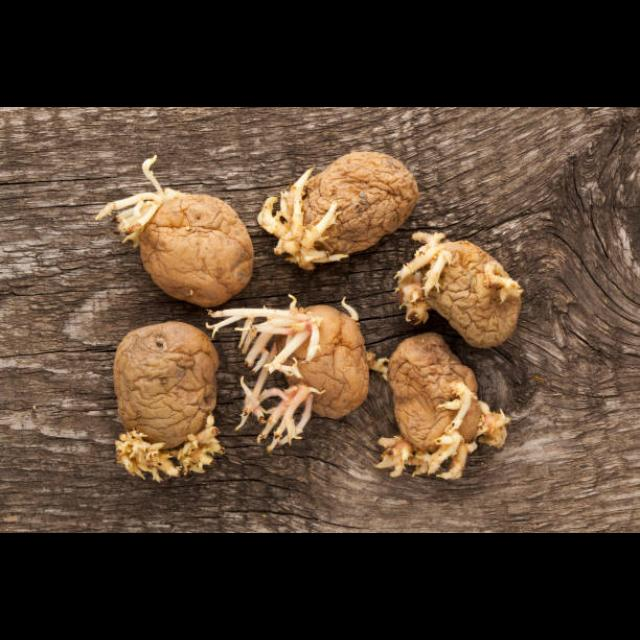Sprouted potato: (214, 278, 366, 446), (100, 154, 254, 308), (93, 307, 233, 475), (366, 316, 504, 486), (256, 134, 422, 268), (390, 216, 528, 354)
